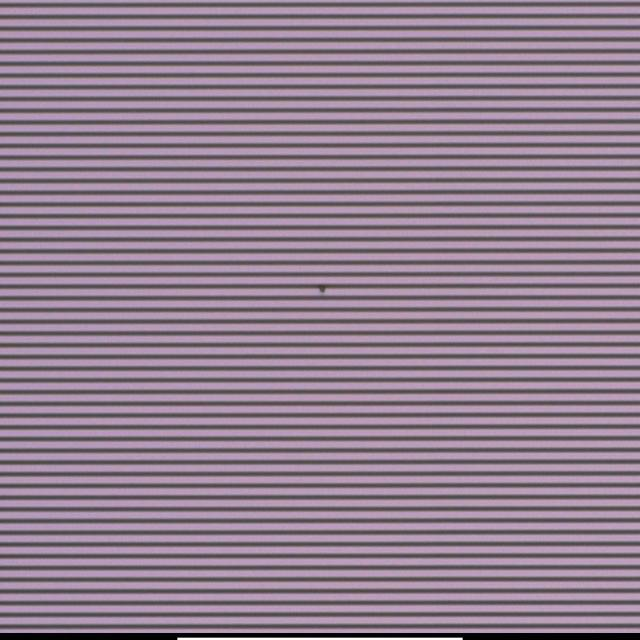03_intrusion: (315, 278, 331, 298)
